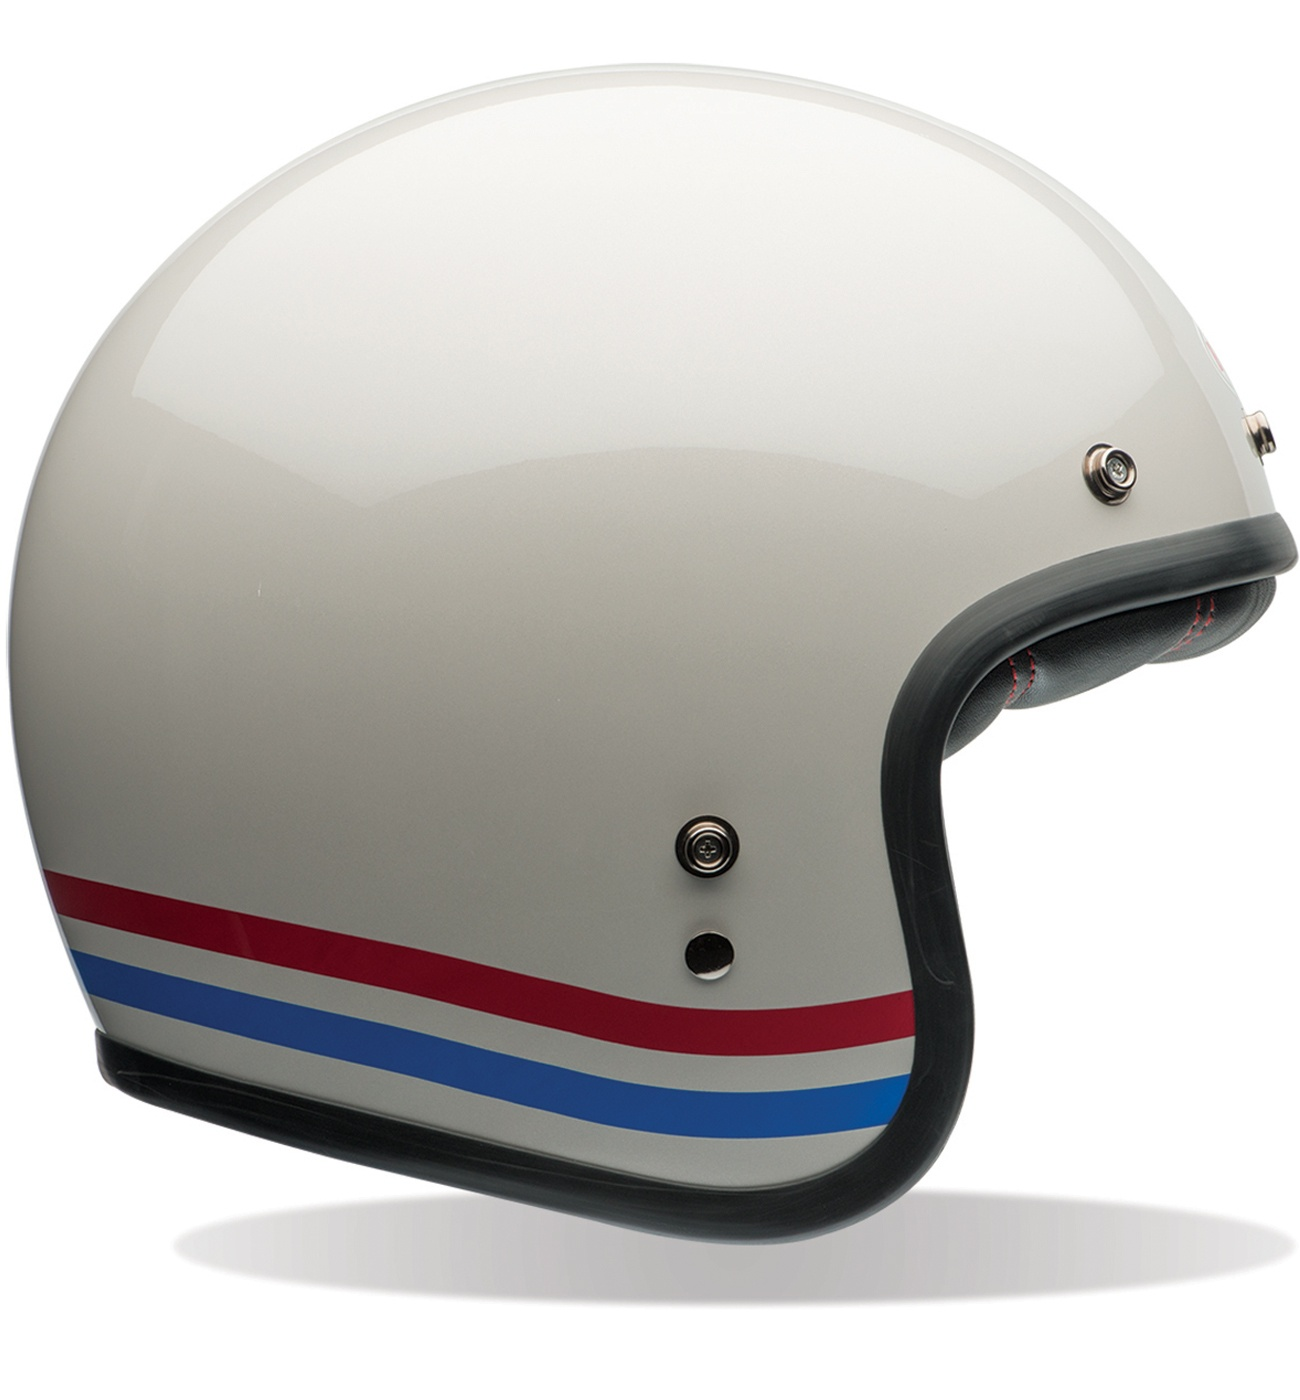with_helmet: (4, 59, 1289, 1225)
